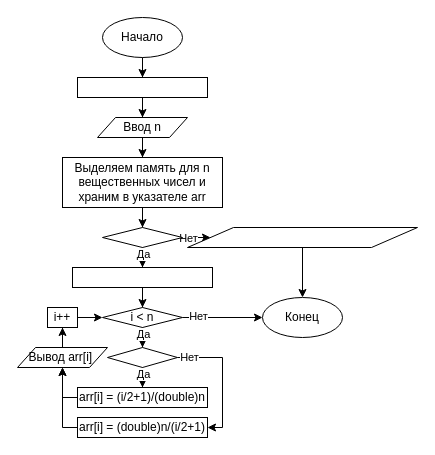
Image size: 435x455. Some labels were removed from this diagram. Here are the shapes that lost their labels. From the top down, the box of each, then its label:
(76, 76, 208, 98): Натуральное число n
(102, 226, 182, 248): n != 0
(186, 226, 418, 248): Вывод "Can not do with 0!\n"
(72, 266, 212, 288): Натуральное число i = 0
(106, 346, 178, 368): i%2==0
